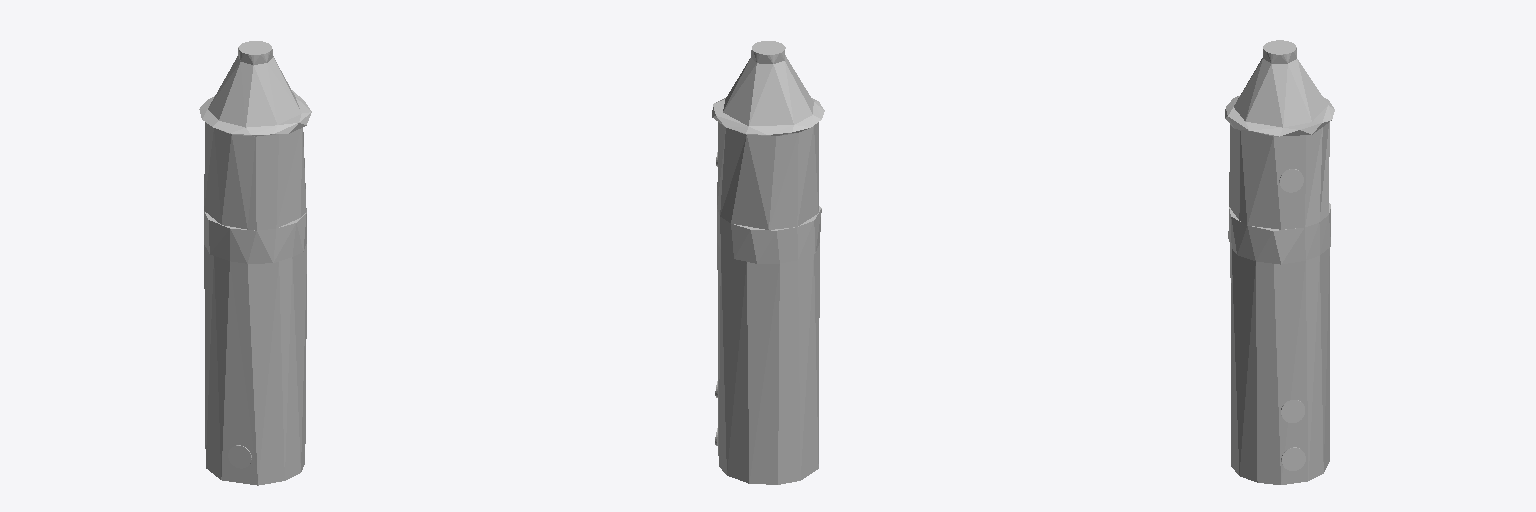
The model's file is Quiver.obj.
The picture shows the model from 3 angles: view 1: azimuth 30°, elevation 25°; view 2: azimuth 150°, elevation 25°; view 3: azimuth 270°, elevation 25°; orthographic projection.
Visible parts, largest first — view 1: Quiver_Tube_Cylinder.001; view 2: Quiver_Tube_Cylinder.001; view 3: Quiver_Tube_Cylinder.001.
Boxes of the visible parts, box(x1,y1,x2,y2) form: Quiver_Tube_Cylinder.001: box(199, 41, 311, 485); Quiver_Tube_Cylinder.001: box(712, 41, 824, 484); Quiver_Tube_Cylinder.001: box(1225, 40, 1334, 484).
Size of the model in its own units: 0.3146 by 1.29 by 0.308.